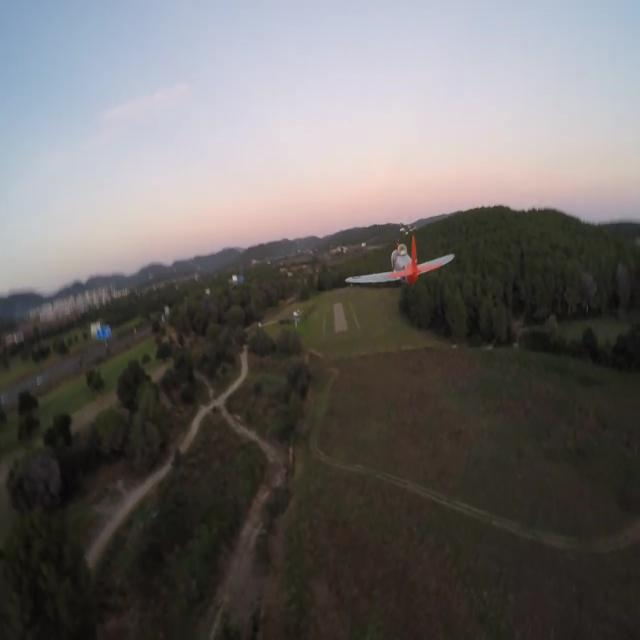iha: (376, 232, 424, 289)
